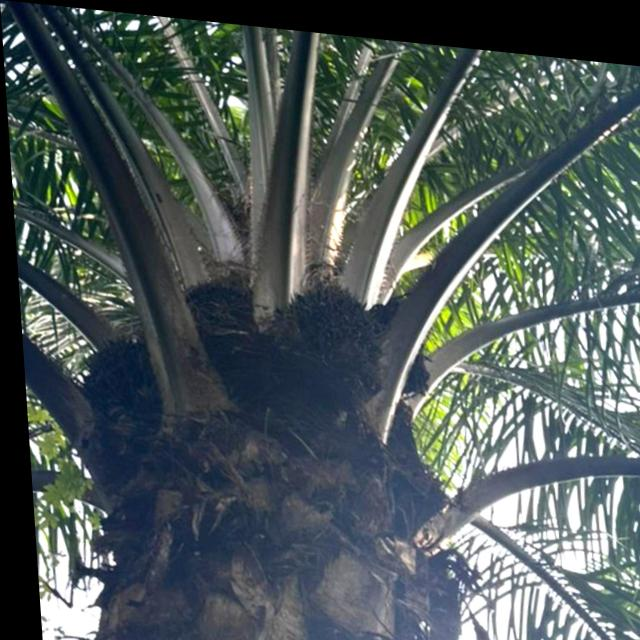unripe: (276, 267, 385, 402), (63, 326, 167, 440)
